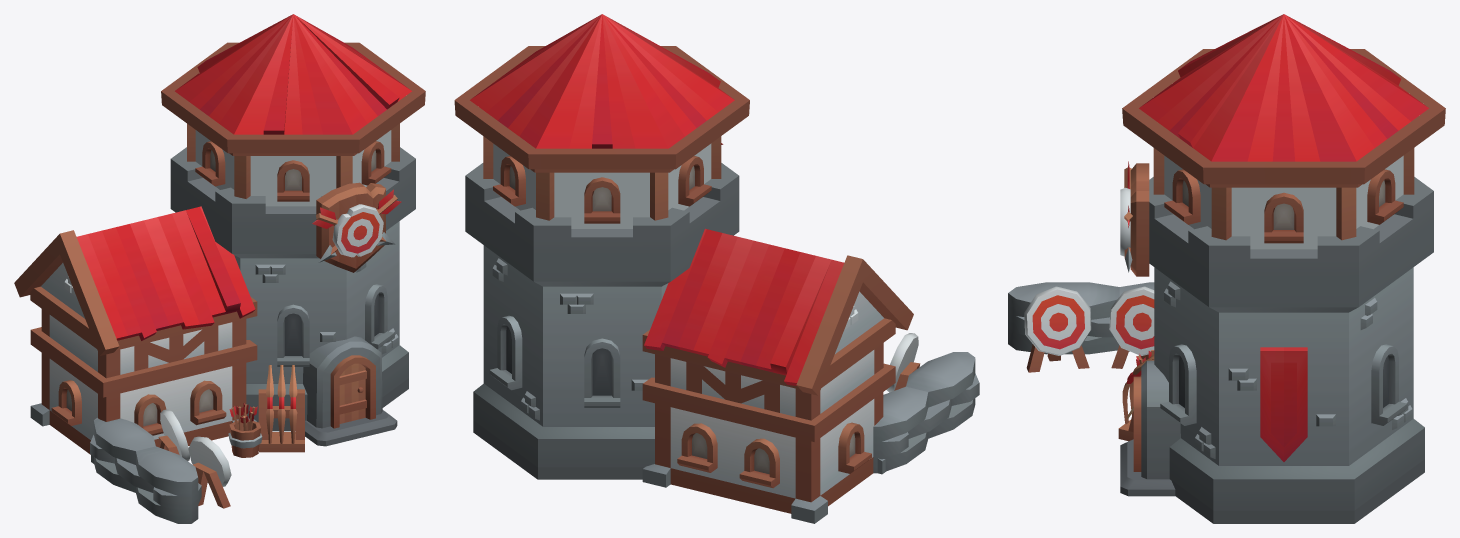
Rendered from building_archeryrange_red.glb.
3 views of the same model, side by side, from view 1: azimuth 30°, elevation 25°; view 2: azimuth 150°, elevation 25°; view 3: azimuth 270°, elevation 25° (orthographic). The views are drawn at different scales.
Visible parts, largest first — view 1: building_archeryrange_red; view 2: building_archeryrange_red; view 3: building_archeryrange_red.
Part boxes in pixels (x1=…): building_archeryrange_red: x1=14, y1=14, x2=425, y2=523; building_archeryrange_red: x1=454, y1=14, x2=979, y2=523; building_archeryrange_red: x1=1008, y1=14, x2=1445, y2=523.
Size of the model in its own units: 1.67 by 1.79 by 1.55.
Materials: 1 (1 with a texture image).
